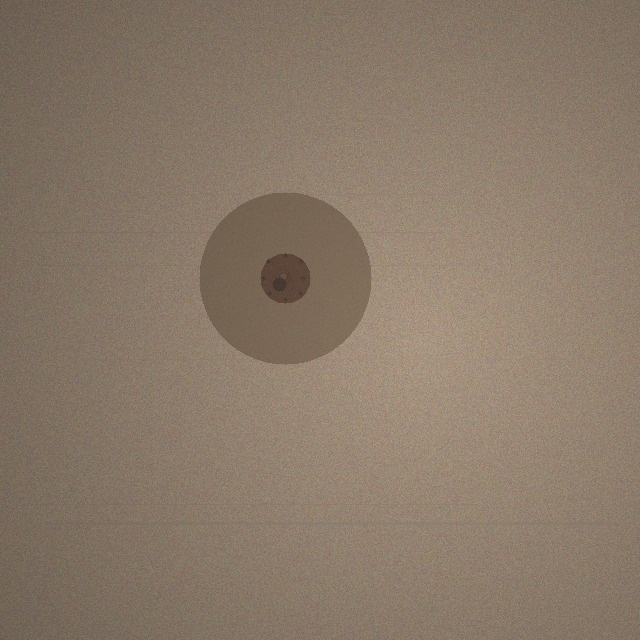cold_weld: (199, 192, 371, 364)
